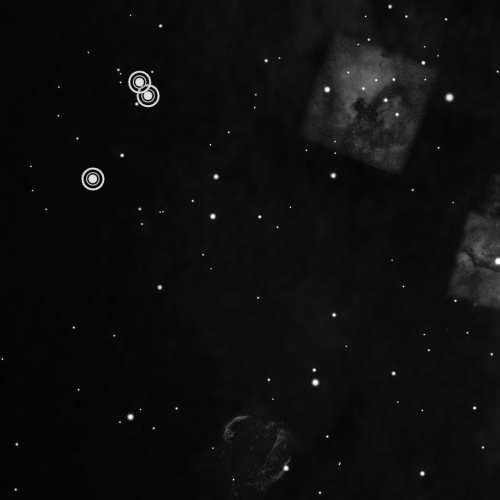canis_minor: (75, 65, 165, 196)
